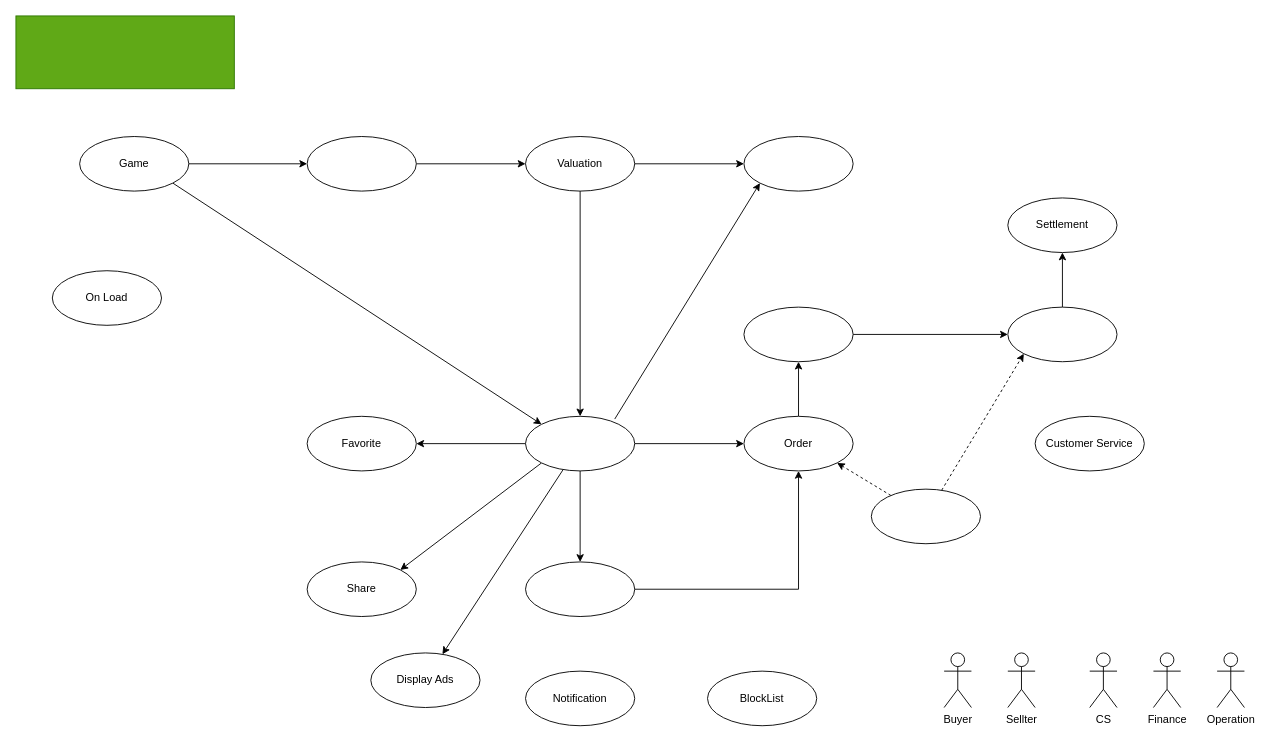
This 1270x743 diagram has some shape labels left out. The shapes that lost their labels are listed below. From the top down, each one's box as (x1, y1, x2, y2) in pixels, then its label:
(15, 15, 234, 89): Virtual Asset Trading Platform (Game)
(306, 136, 416, 191): Game Assets
(743, 136, 853, 191): Verification
(743, 306, 853, 362): Payment
(1007, 306, 1117, 362): Party Transaction
(525, 415, 635, 471): Product
(870, 488, 981, 544): Protection
(525, 561, 635, 617): Bargain
